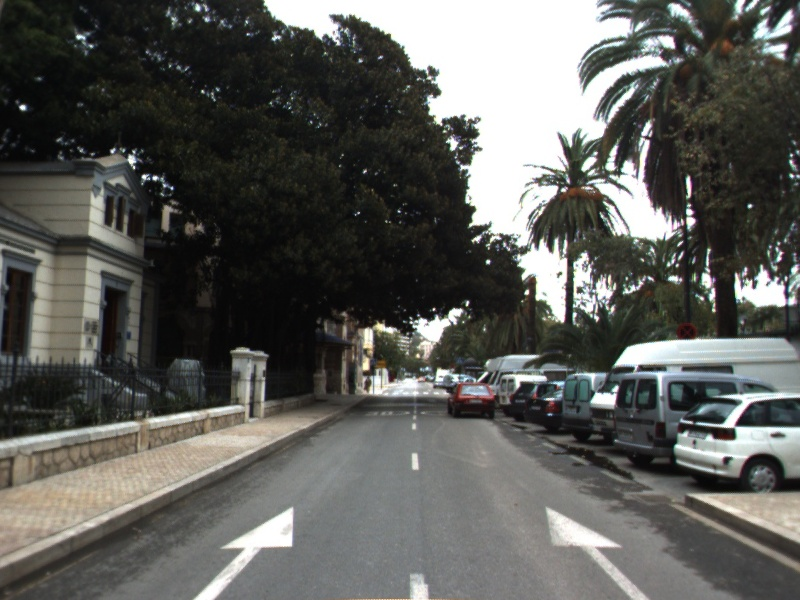STRAIGHT: (543, 502, 655, 600), (190, 502, 297, 600)
